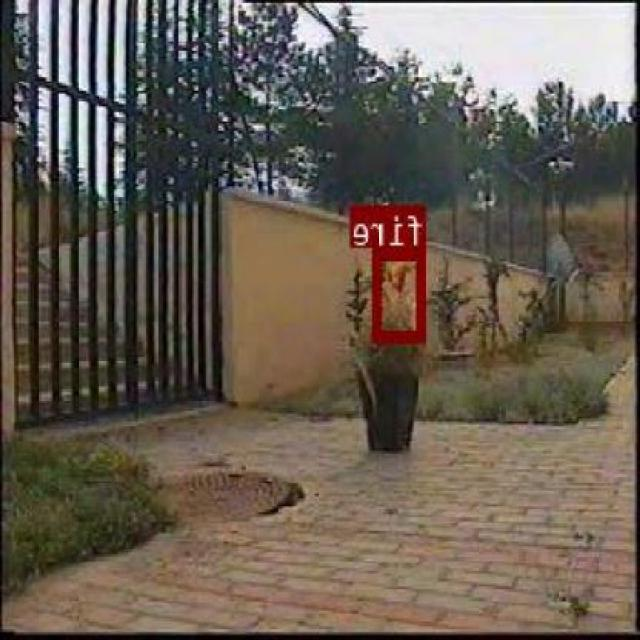Fire: (374, 246, 428, 340)
